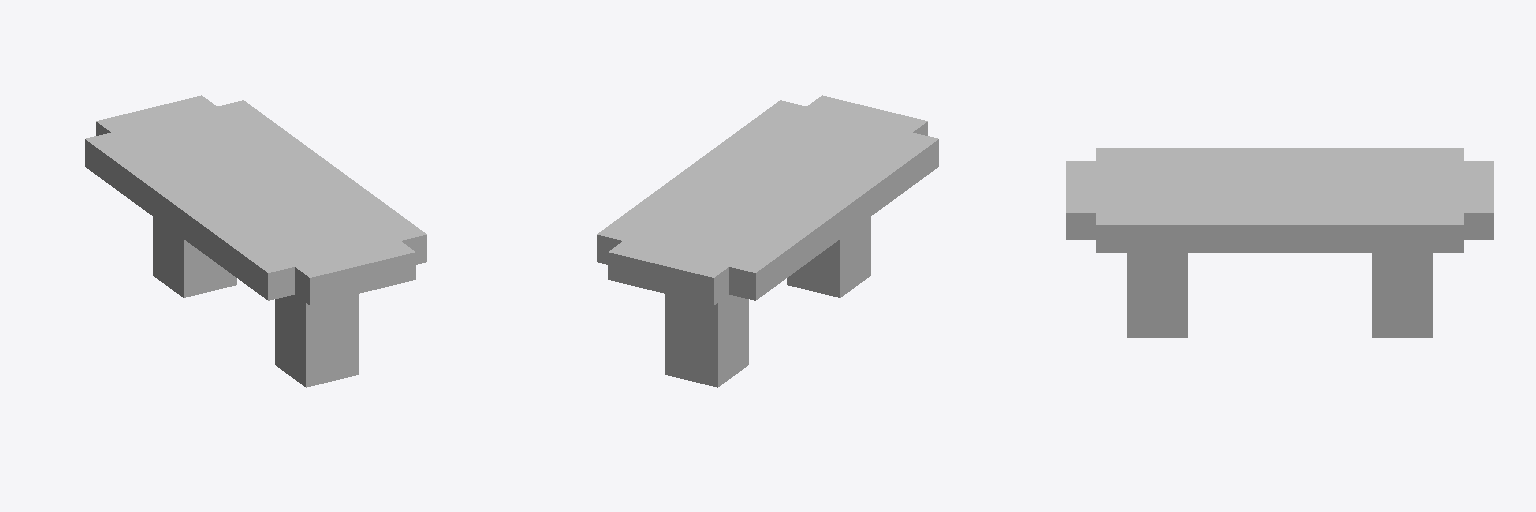
File: desk.obj
3 views of the same model, side by side, from view 1: azimuth 30°, elevation 25°; view 2: azimuth 150°, elevation 25°; view 3: azimuth 270°, elevation 25° (orthographic).
Size of the model in its own units: 6 by 5 by 14.